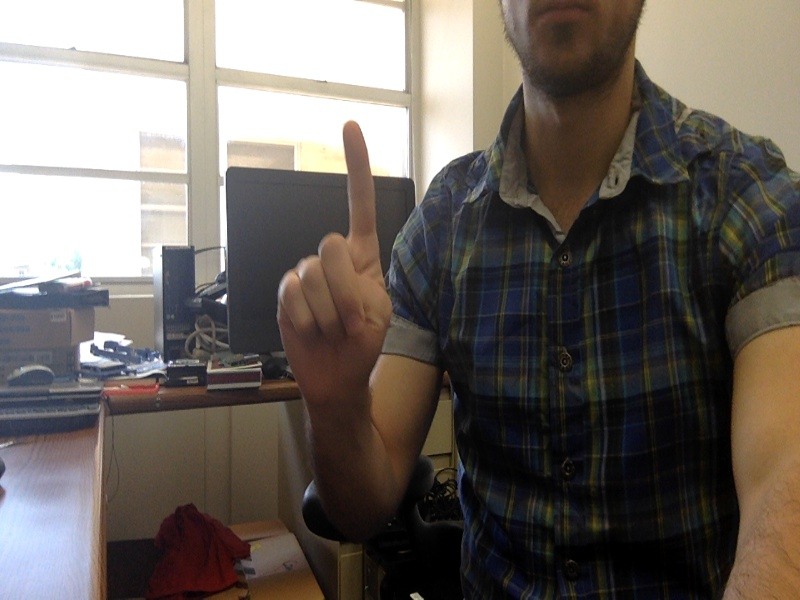1-hand: (274, 121, 389, 398)
